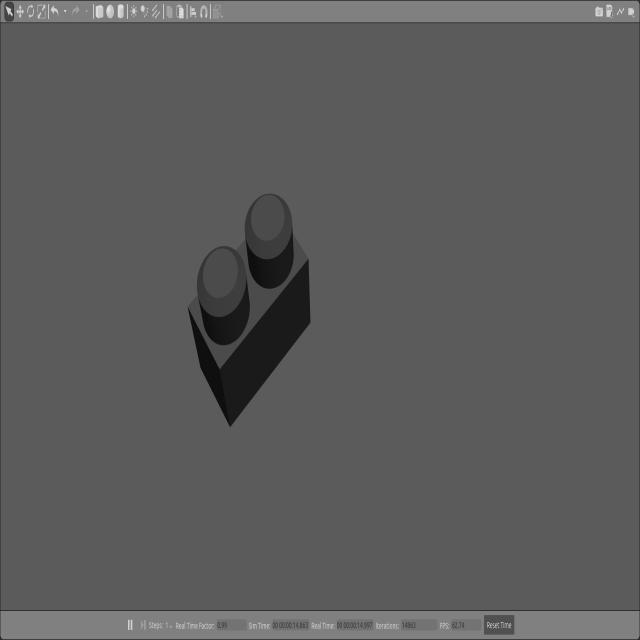block3: (188, 194, 310, 428)
